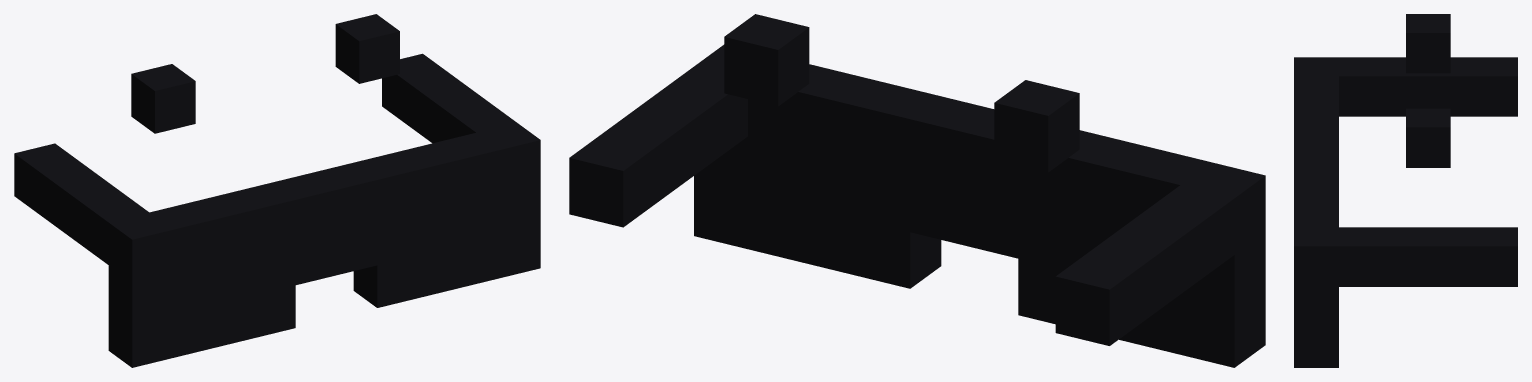
Rendered from SunGlass.FBX.
3 renders of one model, left to right at view 1: azimuth 30°, elevation 25°; view 2: azimuth 150°, elevation 25°; view 3: azimuth 270°, elevation 25°, orthographic. The views are drawn at different scales.
Parts seen in each view (by area): view 1: SunGlass; view 2: SunGlass; view 3: SunGlass.
Part boxes in pixels (left/top/right/bottom): SunGlass: left=14, top=14, right=540, bottom=367; SunGlass: left=569, top=14, right=1265, bottom=367; SunGlass: left=1294, top=14, right=1517, bottom=367.
Size of the model in its own units: 10 by 5 by 5.
